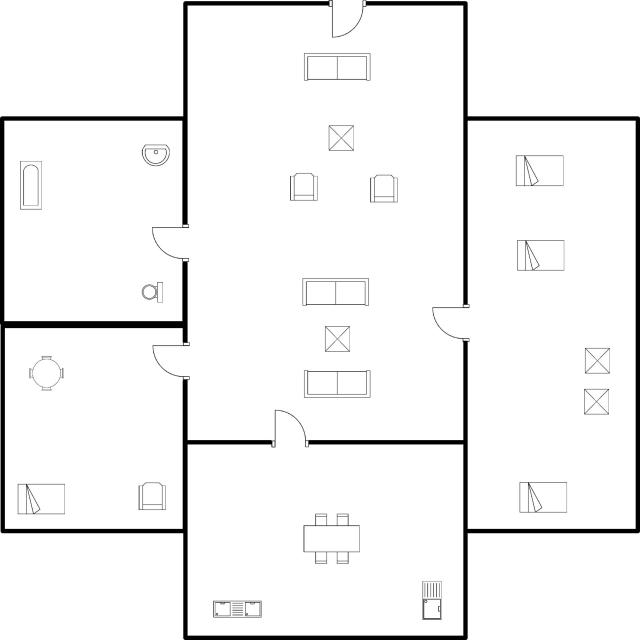armchair: (366, 170, 404, 208), (286, 168, 322, 206), (133, 477, 169, 514)
bed: (511, 150, 568, 190), (12, 480, 71, 518), (514, 477, 572, 515), (512, 237, 570, 274)
coffee_table: (580, 343, 615, 378), (580, 384, 616, 418), (326, 120, 359, 155), (321, 322, 353, 356)
dining_table: (297, 508, 364, 568)
large_sink: (138, 278, 168, 304)
large_sofa: (300, 48, 373, 86), (298, 273, 372, 310), (298, 367, 374, 400)
round_table: (23, 351, 68, 396)
sink: (416, 577, 444, 625)
small_sink: (136, 138, 173, 170)
tub: (16, 158, 44, 212)
twin_sink: (208, 595, 265, 624)
